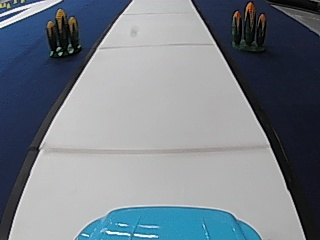corn: (228, 0, 268, 51), (45, 8, 82, 56)
